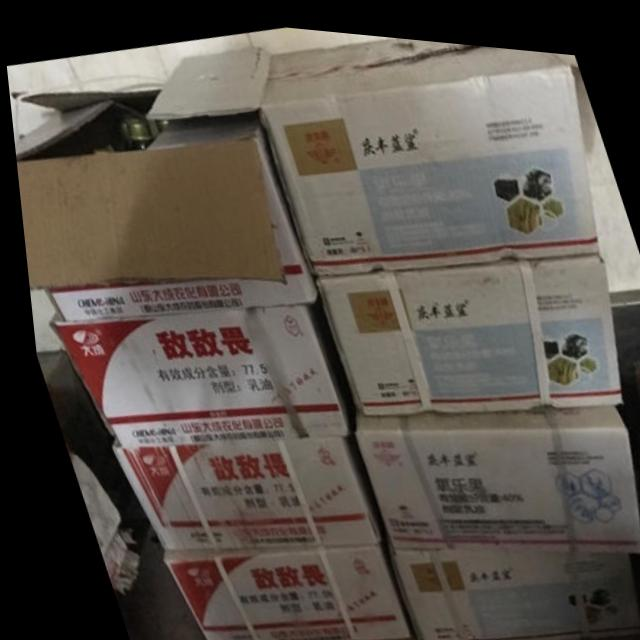box: (142, 29, 597, 272), (10, 82, 310, 319), (308, 244, 615, 408), (42, 297, 343, 447), (346, 395, 632, 541), (102, 431, 370, 549), (152, 537, 399, 640), (378, 540, 628, 640)
